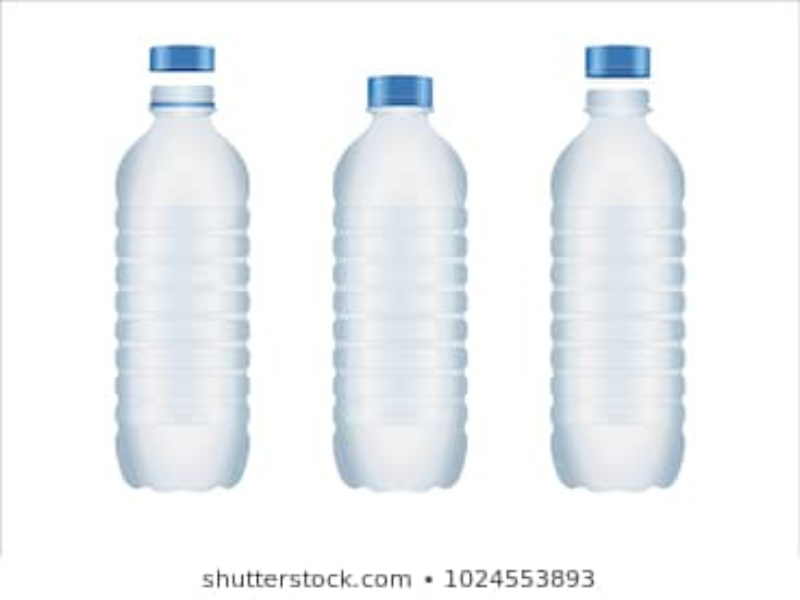bottle-cap: (352, 65, 443, 115), (133, 39, 235, 74), (579, 40, 662, 81)
plastic-bottle: (320, 69, 500, 500), (535, 82, 712, 505), (102, 77, 267, 496)
